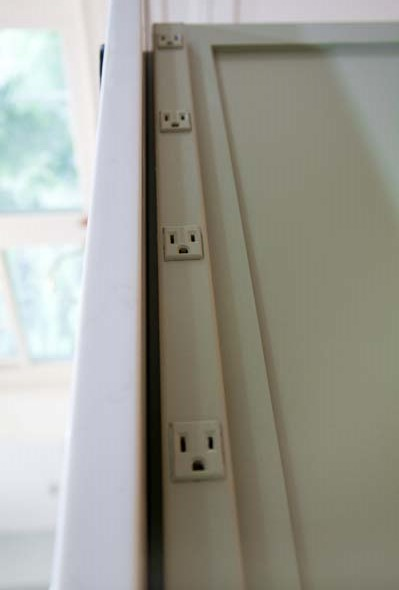outlet: (173, 428, 222, 478), (165, 227, 199, 259), (158, 29, 182, 51), (162, 111, 186, 133)
